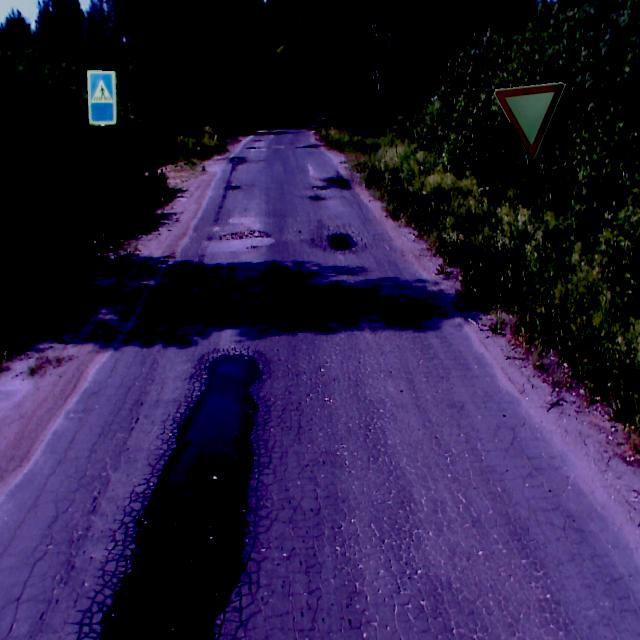road: (0, 119, 639, 639)
